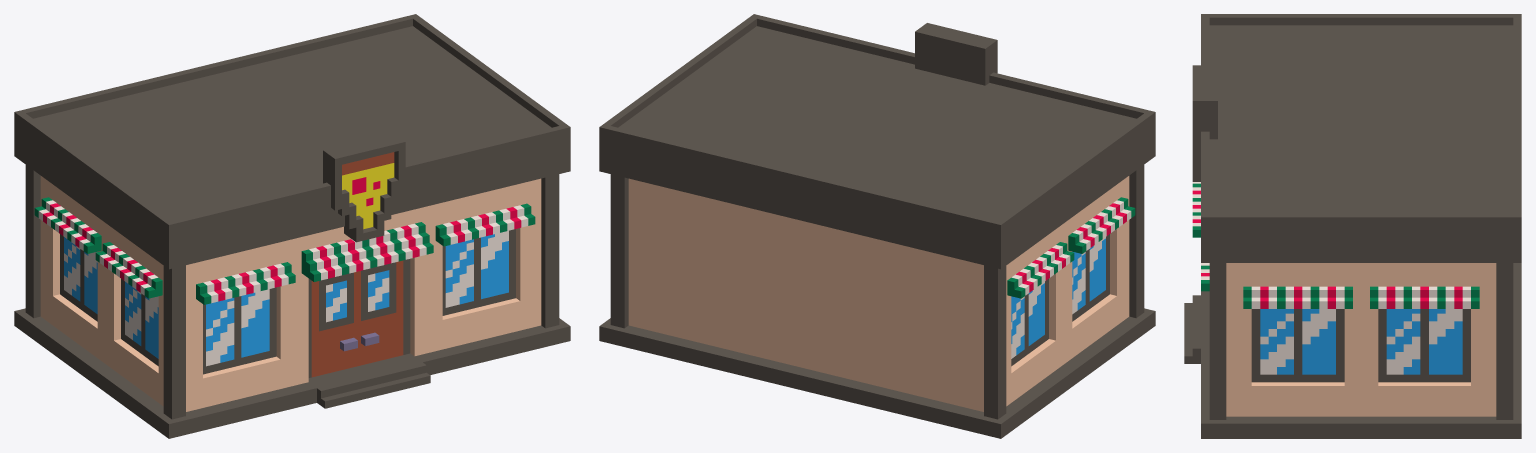
The model's file is pizza_shop_a.obj.
3 renders of one model, left to right at view 1: azimuth 30°, elevation 25°; view 2: azimuth 150°, elevation 25°; view 3: azimuth 270°, elevation 25°, orthographic. The views are drawn at different scales.
Size of the model in its own units: 5.7 by 3.3 by 4.
Materials: 1 (1 with a texture image).
